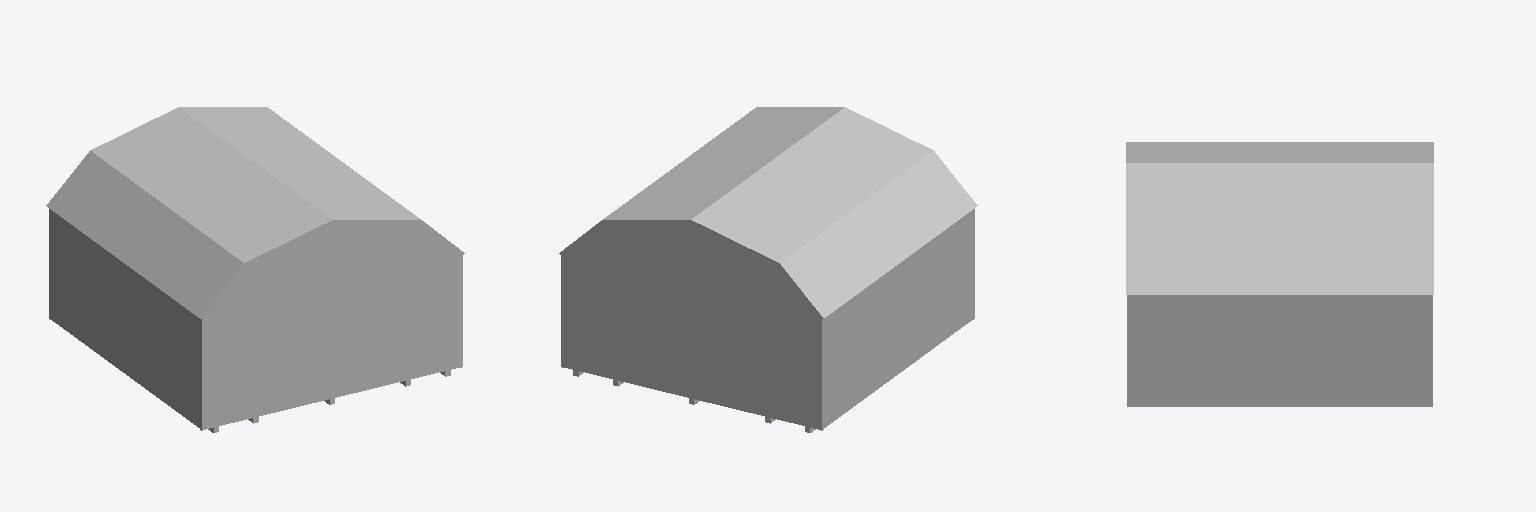
The model's file is Dutch Barn_14x16.obj.
3 renders of one model, left to right at view 1: azimuth 30°, elevation 25°; view 2: azimuth 150°, elevation 25°; view 3: azimuth 270°, elevation 25°, orthographic.
Visible parts, largest first — view 1: Dutch Barn_14x16.obj; view 2: Dutch Barn_14x16.obj; view 3: Dutch Barn_14x16.obj.
Part boxes in pixels (x1,y1,x2,y2): Dutch Barn_14x16.obj: (46, 107, 464, 432); Dutch Barn_14x16.obj: (559, 107, 977, 432); Dutch Barn_14x16.obj: (1126, 142, 1433, 406).
Size of the model in its own units: 4.91 by 3.27 by 4.93.